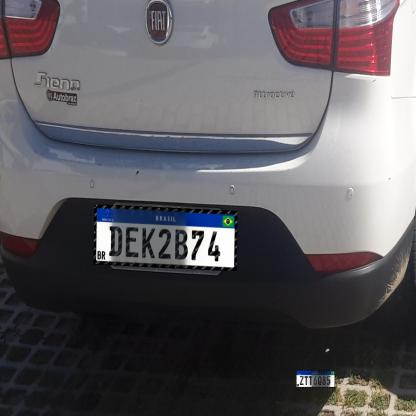PlacaM: (93, 205, 237, 271), (296, 370, 335, 388)
